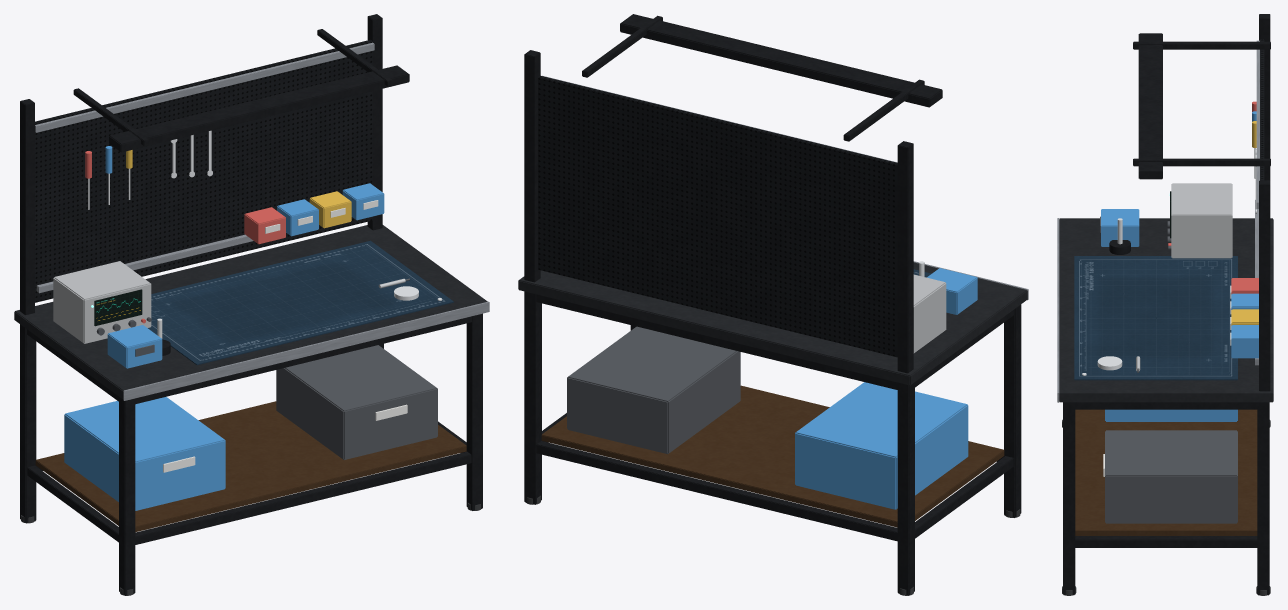
The model's file is workshop_workbench.glb.
3 renders of one model, left to right at view 1: azimuth 30°, elevation 25°; view 2: azimuth 150°, elevation 25°; view 3: azimuth 270°, elevation 25°, orthographic. The views are drawn at different scales.
Visible parts, largest first — view 1: WorkshopWorkbench; view 2: WorkshopWorkbench; view 3: WorkshopWorkbench.
Boxes of the visible parts, x1,y1,x2,y2 form: WorkshopWorkbench: (14,14,489,595); WorkshopWorkbench: (518,14,1028,595); WorkshopWorkbench: (1057,14,1273,595).
Size of the model in its own units: 1.62 by 1.77 by 0.846.
Materials: 17 (7 with a texture image).
